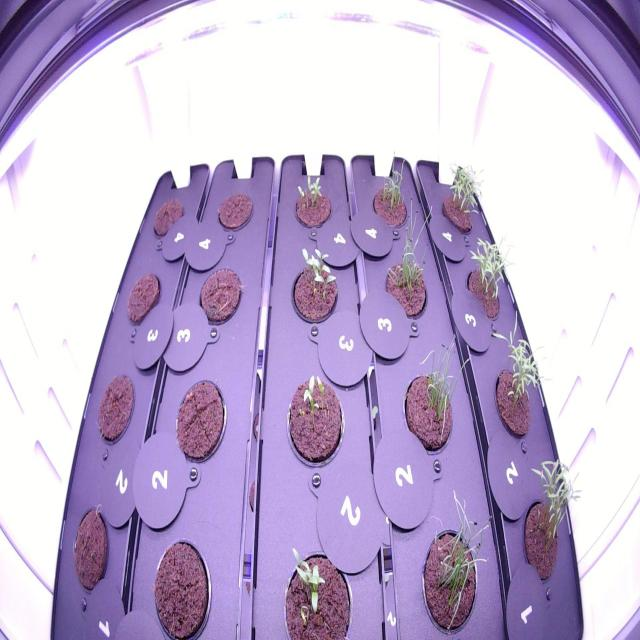germination: (409, 483, 487, 638), (399, 324, 474, 468), (514, 452, 584, 600), (487, 311, 554, 451), (373, 194, 439, 328), (281, 359, 351, 479), (275, 539, 355, 639), (458, 223, 520, 325), (284, 238, 343, 330), (436, 150, 492, 240), (364, 144, 418, 236), (289, 169, 336, 234)
pod: (147, 529, 216, 639), (170, 369, 231, 474), (68, 494, 115, 605), (92, 367, 139, 458), (195, 258, 246, 331), (121, 267, 166, 332), (146, 191, 190, 252), (212, 183, 258, 237)
